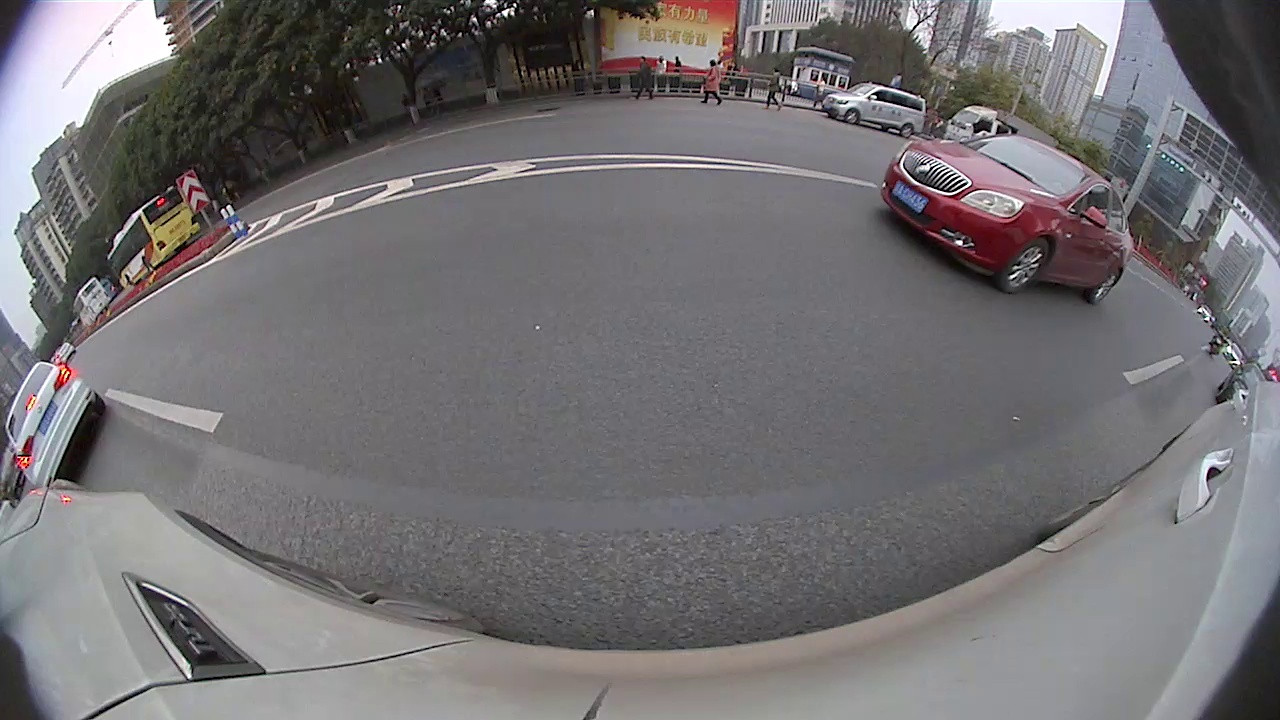bus: (103, 185, 200, 285), (67, 274, 112, 327)
car: (882, 132, 1136, 307), (0, 359, 107, 491), (823, 82, 927, 138), (1215, 358, 1267, 416)
front: (1002, 241, 1048, 294), (844, 108, 860, 125)
person: (709, 59, 720, 107), (641, 56, 651, 104), (770, 67, 779, 110)
rear: (1091, 273, 1119, 304), (899, 123, 914, 139)
truck: (944, 104, 1059, 147)
